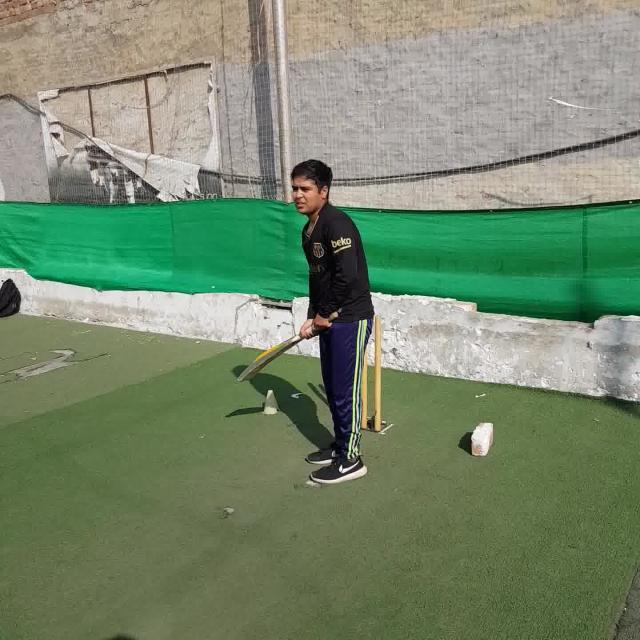bat: (237, 311, 337, 382)
